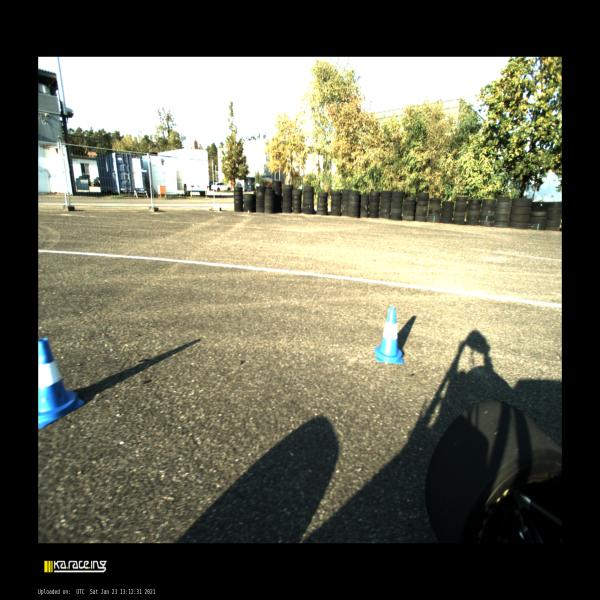blue_cone: (38, 337, 84, 429), (374, 306, 405, 364)
